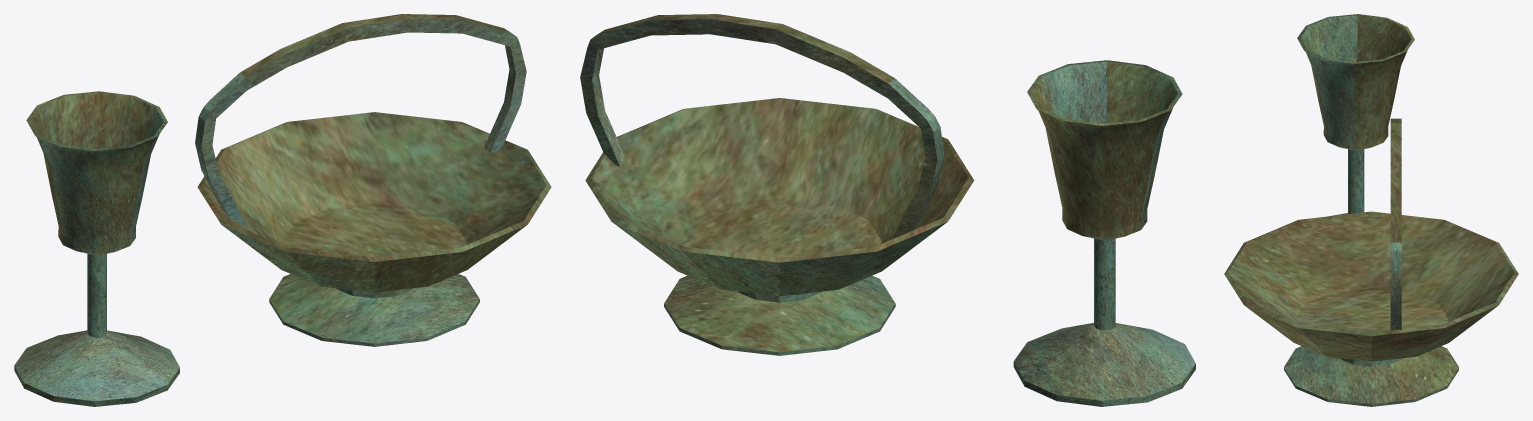
File: brass_items.fbx
3 renders of one model, left to right at view 1: azimuth 30°, elevation 25°; view 2: azimuth 150°, elevation 25°; view 3: azimuth 270°, elevation 25°, orthographic. The views are drawn at different scales.
Parts seen in each view (by area): view 1: pCube2, pCylinder1; view 2: pCube2, pCylinder1; view 3: pCube2, pCylinder1.
Boxes of the visible parts, x1,y1,x2,y2 form: pCube2: (195, 14, 551, 346); pCylinder1: (14, 91, 179, 406); pCube2: (580, 14, 974, 355); pCylinder1: (1013, 60, 1195, 406); pCube2: (1224, 118, 1518, 406); pCylinder1: (1297, 14, 1414, 216).
Size of the model in its own units: 261 by 129 by 153.
1 material, 1 textured.
